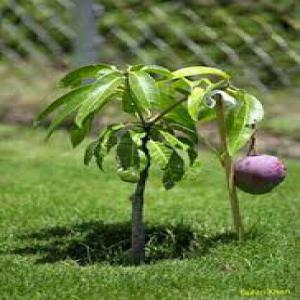Tree: (31, 57, 287, 259)
